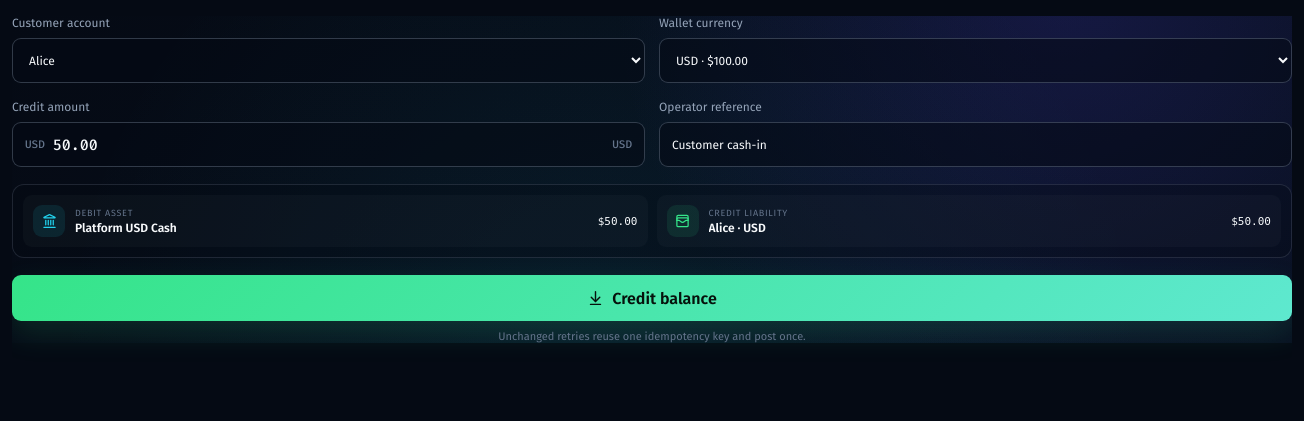
Test: WalletFundingForm › blocks simultaneous submits and reuses one key while details remain unchanged
Later steps or results of the test are not shown.
Click the button "Credit balance": {"x": 652, "y": 298} [12, 275, 1292, 321]
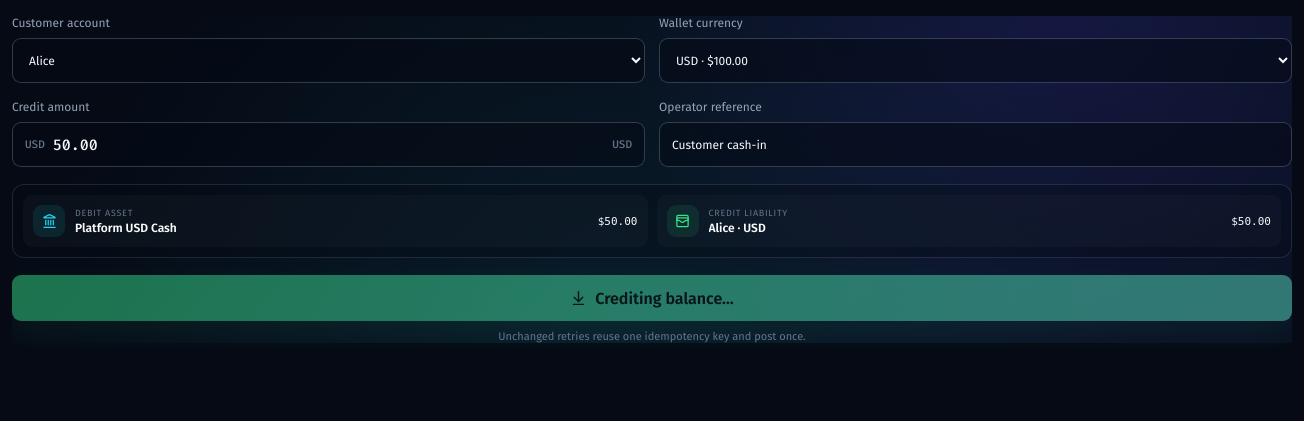
Click the button named "Credit balance": {"x": 652, "y": 298} [12, 275, 1292, 321]
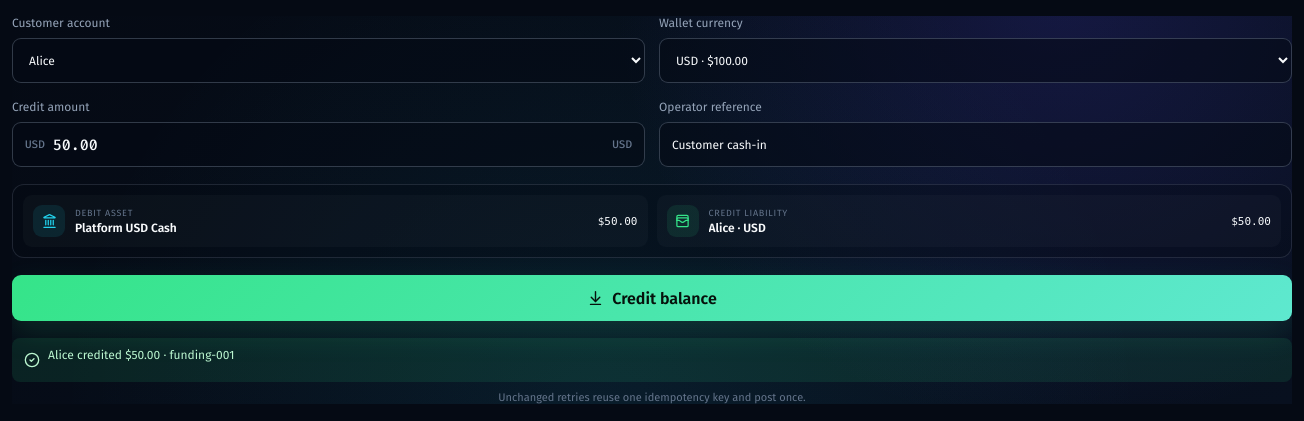
Result: the message "Alice credited $50.00 · funding-001" is shown at [12, 338, 1292, 382]
